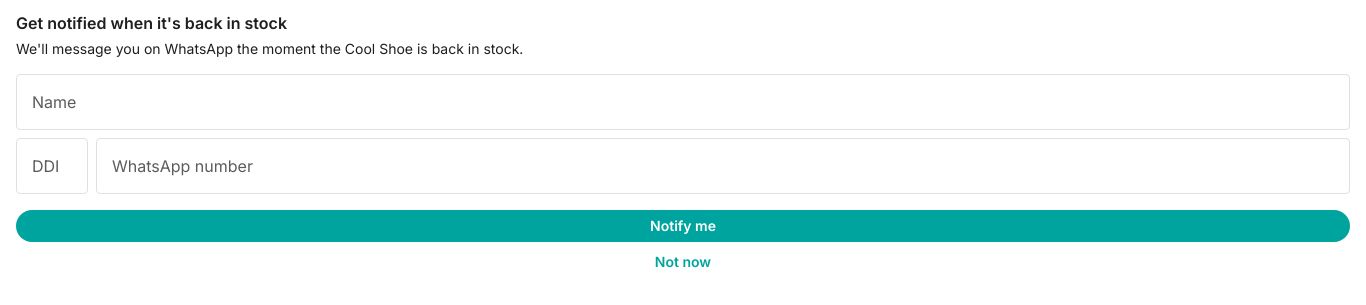
Test: BackInStockNotify › does not submit when the name is empty
Type "+55" into the field labelled "DDI" at (52, 166), box [16,138,88,194]
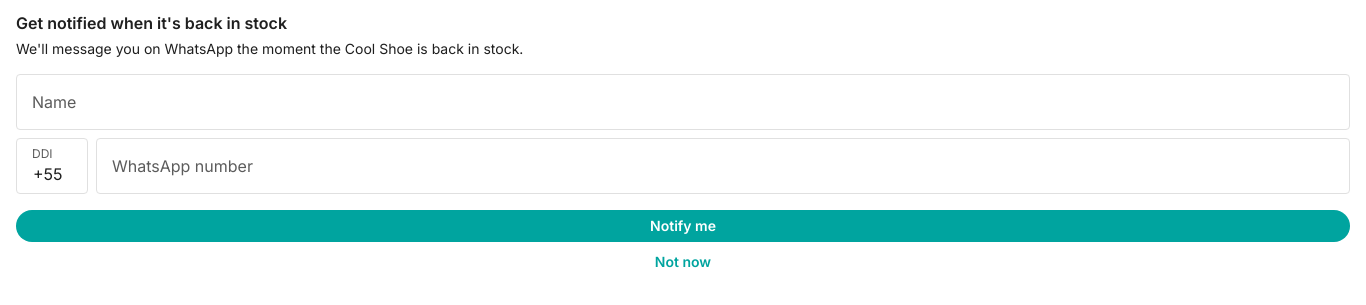
Type "11999999999" into the field labelled "WhatsApp number" at (723, 166), box [96,138,1350,194]
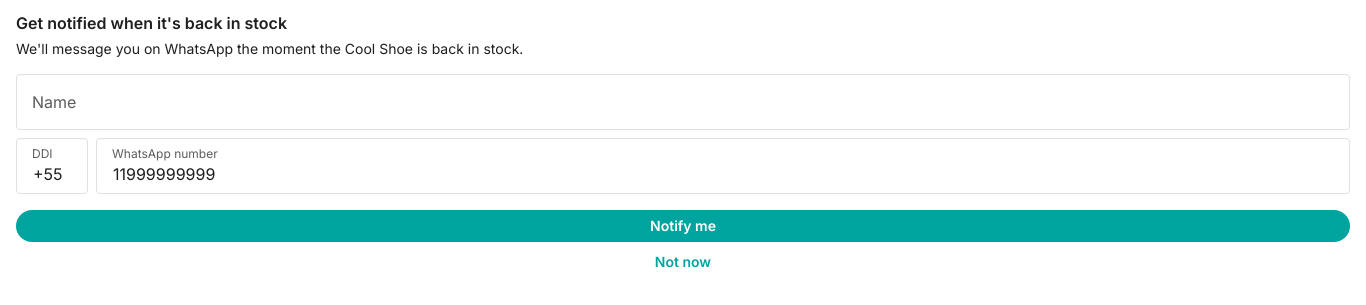
Click the button "Notify me" at (683, 226), box [16,210,1350,242]
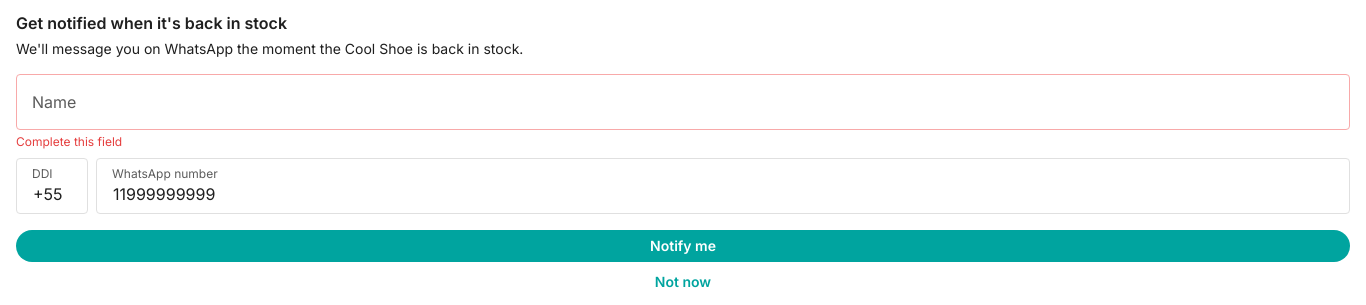
Now the message reads "Complete this field", box [16,134,122,149]
